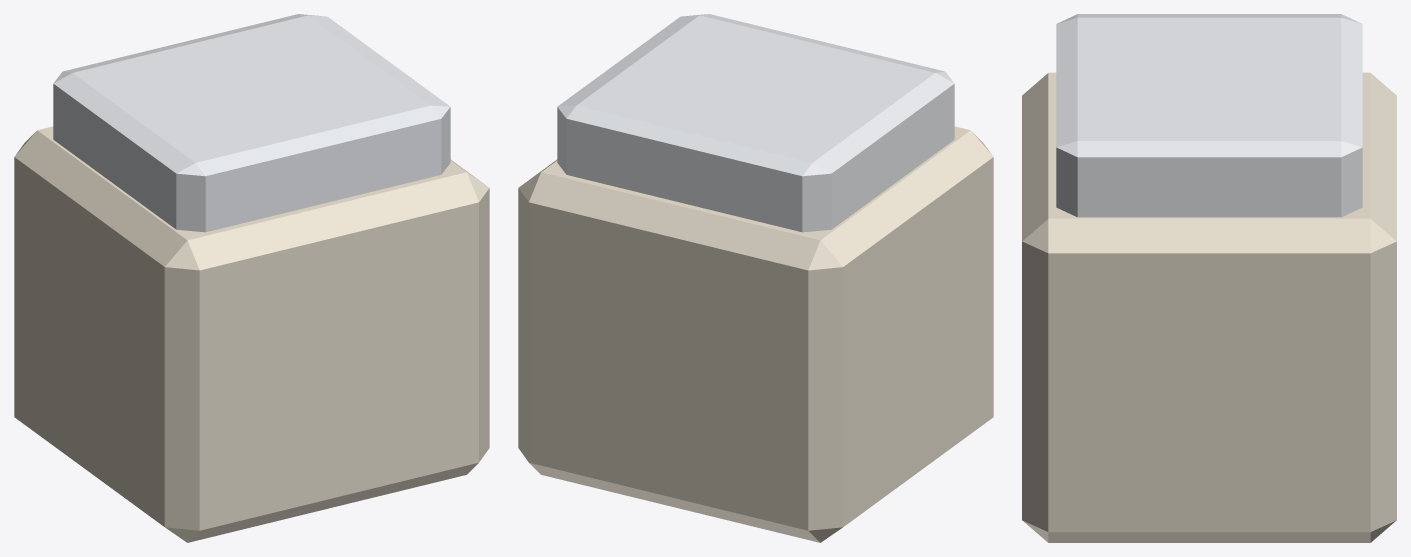
Rendered from b17_padded_dog_walking_harness.glb.
The picture shows the model from 3 angles, left to right: view 1: azimuth 30°, elevation 25°; view 2: azimuth 150°, elevation 25°; view 3: azimuth 270°, elevation 25°; orthographic projection. The views are drawn at different scales.
Parts seen in each view (by area): view 1: b17_padded_dog_walking_harness; view 2: b17_padded_dog_walking_harness; view 3: b17_padded_dog_walking_harness.
Boxes of the visible parts, x1,y1,x2,y2 form: b17_padded_dog_walking_harness: [14, 14, 489, 542]; b17_padded_dog_walking_harness: [518, 14, 993, 542]; b17_padded_dog_walking_harness: [1022, 14, 1396, 542].
Bounding box in the file's own units: 0.178 × 0.191 × 0.166.
